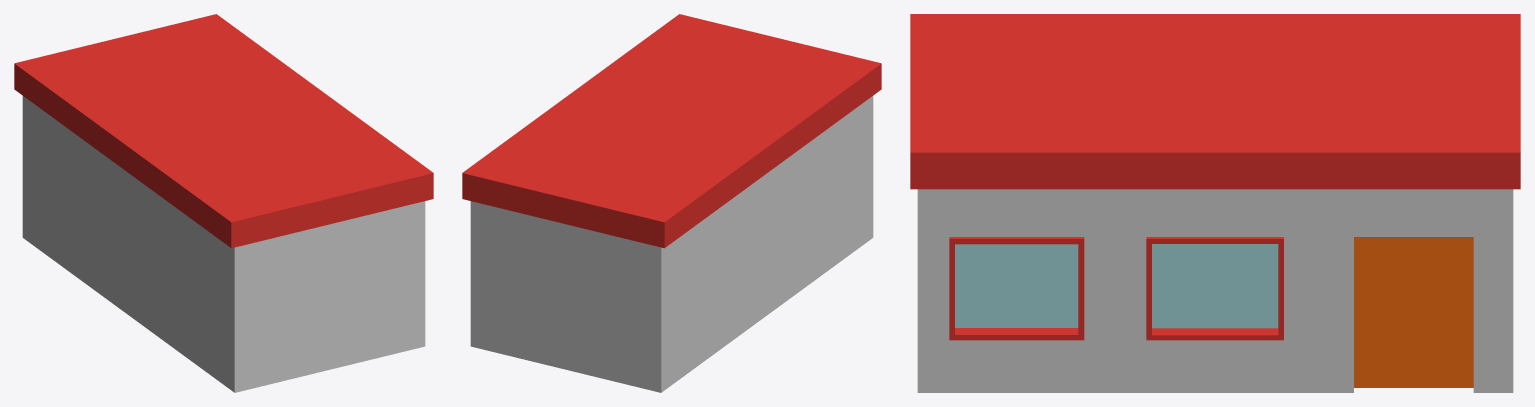
Rendered from Building 1.fbx.
The picture shows the model from 3 angles, left to right: view 1: azimuth 30°, elevation 25°; view 2: azimuth 150°, elevation 25°; view 3: azimuth 270°, elevation 25°; orthographic projection. The views are drawn at different scales.
Parts seen in each view (by area): view 1: Building 10; view 2: Building 10; view 3: Building 10.
Part boxes in pixels (x1,y1,x2,y2): Building 10: [14, 14, 433, 392]; Building 10: [462, 14, 881, 392]; Building 10: [910, 14, 1520, 392].
Size of the model in its own units: 449 by 369 by 836.
